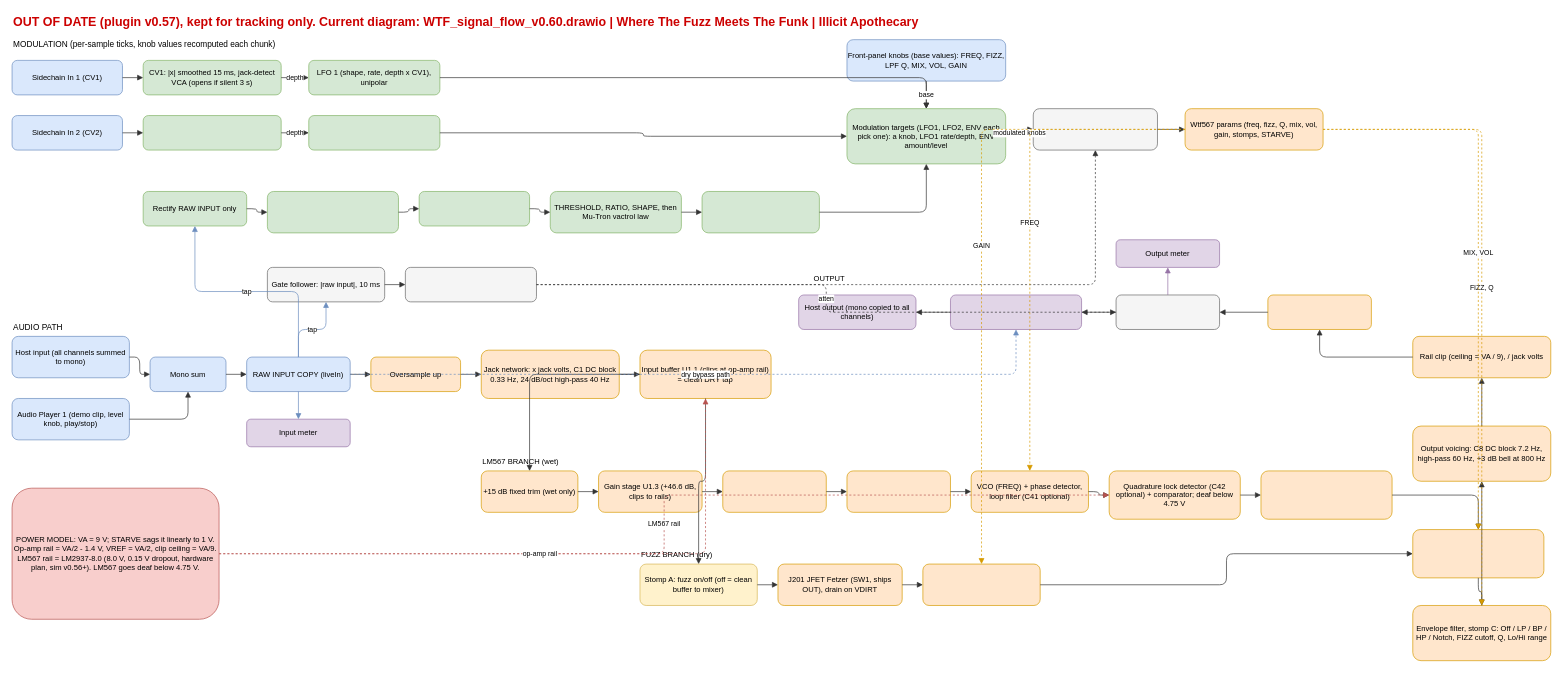
Some shapes in this 1563 by 673 pixel diagram are drawn without their labels. The shapes that lost their labels are listed below. From the top down, each one's centre as x and y in pixels, then its label:
At point 211,132: "CV2: |x| smoothed 15 ms, jack-detect VCA (opens if silent 3 s)".
At point 374,132: "LFO 2 (shape, rate, depth x CV2), bipolar".
At point 1095,129: "Gate pull: FREQ and FIZZ x (1 - pull)".
At point 332,212: "Envelope cap: attack 1.55 ms, decay 158.7 ms (ATTACK / DECAY knobs)".
At point 474,208: "Vactrol lag: 2.5 ms on, 35 ms off".
At point 760,212: "x ENV GAIN (and x LFO1 level if targeted)".
At point 470,284: "Gate THRESH / HOLD / FADE -> attenuation dB".
At point 1016,311: "Bypass crossfade (10 ms) against RAW INPUT".
At point 1167,311: "Gate gain ramp".
At point 1319,311: "Oversample down".
At point 774,491: "C3 high-pass 36 Hz + noise floor".
At point 898,491: "Input limiter / comparator (hysteresis)".
At point 1326,494: "Q open-collector node (R16 pull-up) x stomp B (decoder on/off)".
At point 1478,553: "Parallel MIX: -(wet x Q + dry x fuzz), op-amp clip".
At point 981,584: "Bazz Fuss dirt (GAIN knob, bias sag)".
